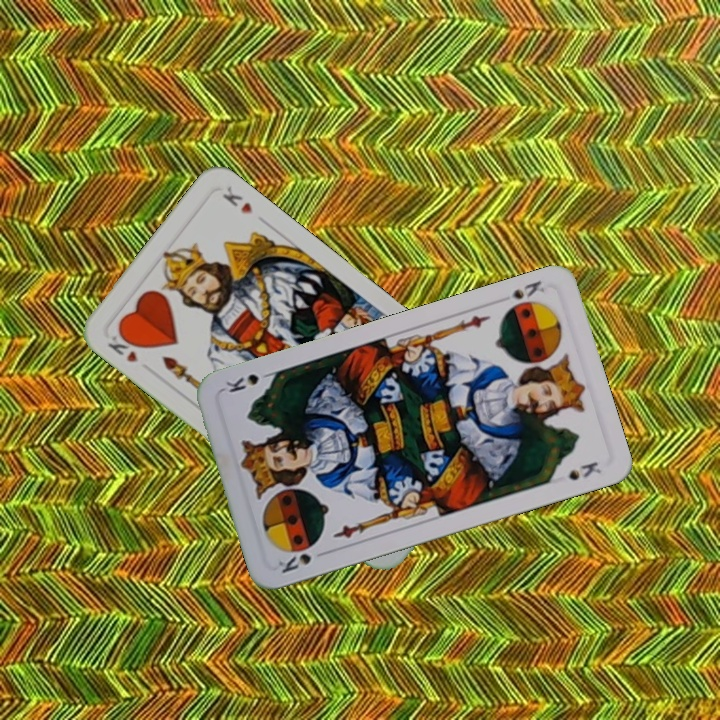HK: (103, 325, 143, 365)
SK: (274, 549, 314, 576), (508, 276, 547, 302)
